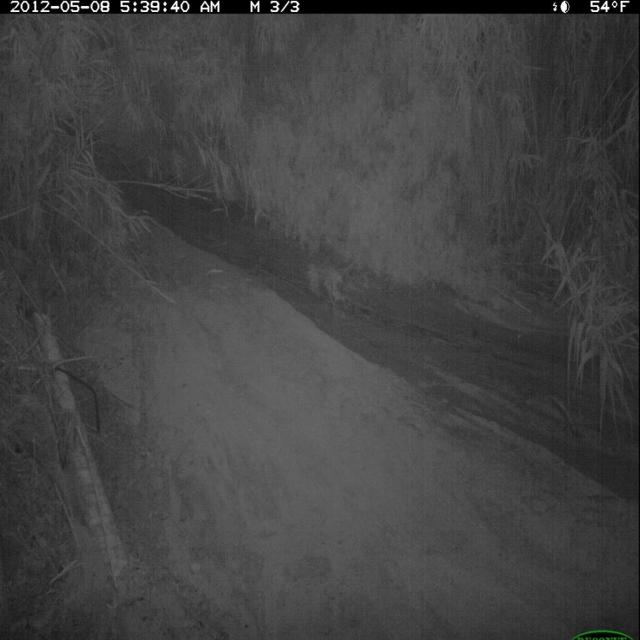bobcat: (5, 8, 636, 640)
